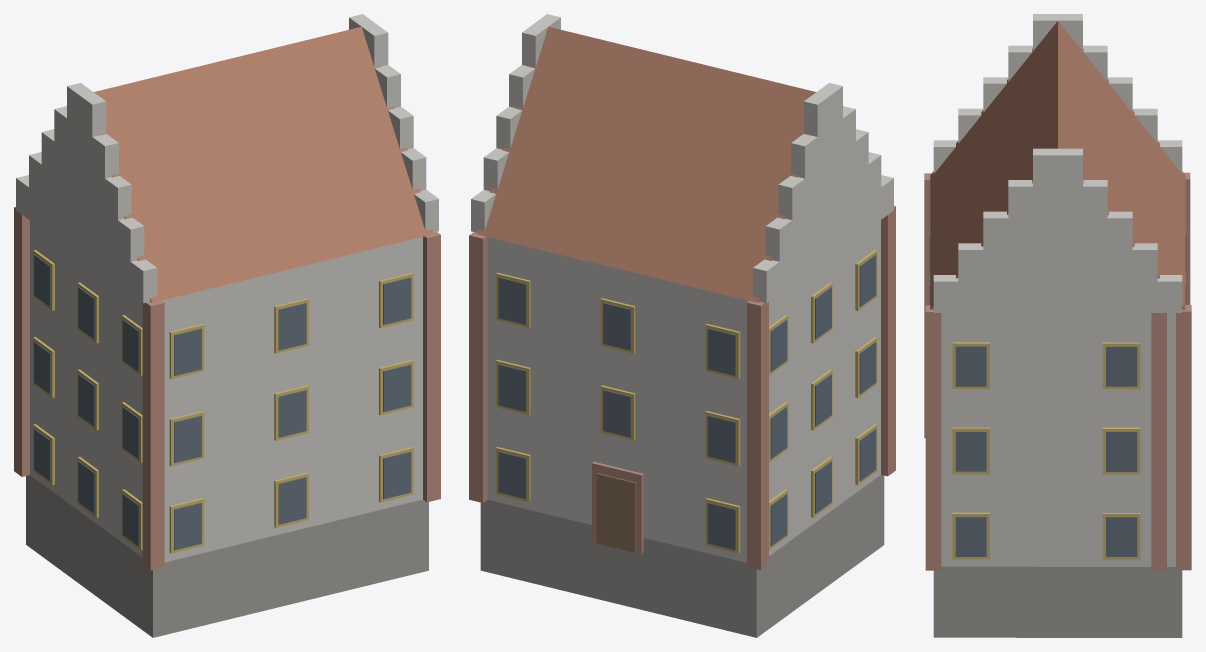
Rendered from landmark-kandern-museum.glb.
3 renders of one model, left to right at view 1: azimuth 30°, elevation 25°; view 2: azimuth 150°, elevation 25°; view 3: azimuth 270°, elevation 25°, orthographic. The views are drawn at different scales.
Visible parts, largest first — view 1: building; view 2: building; view 3: building.
Boxes of the visible parts, bbox=[...] form: building: bbox=[14, 14, 440, 637]; building: bbox=[469, 14, 895, 637]; building: bbox=[924, 14, 1191, 637].
Bounding box in the file's own units: 10.66 × 17.16 × 8.52.
